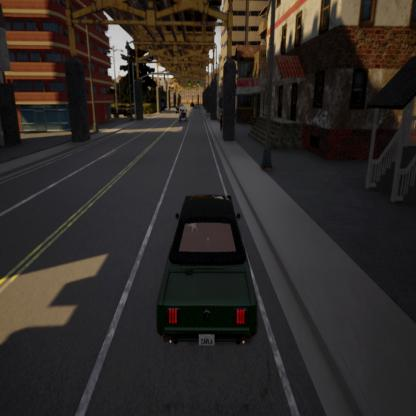Cars: (147, 162, 267, 360), (176, 98, 190, 126)
